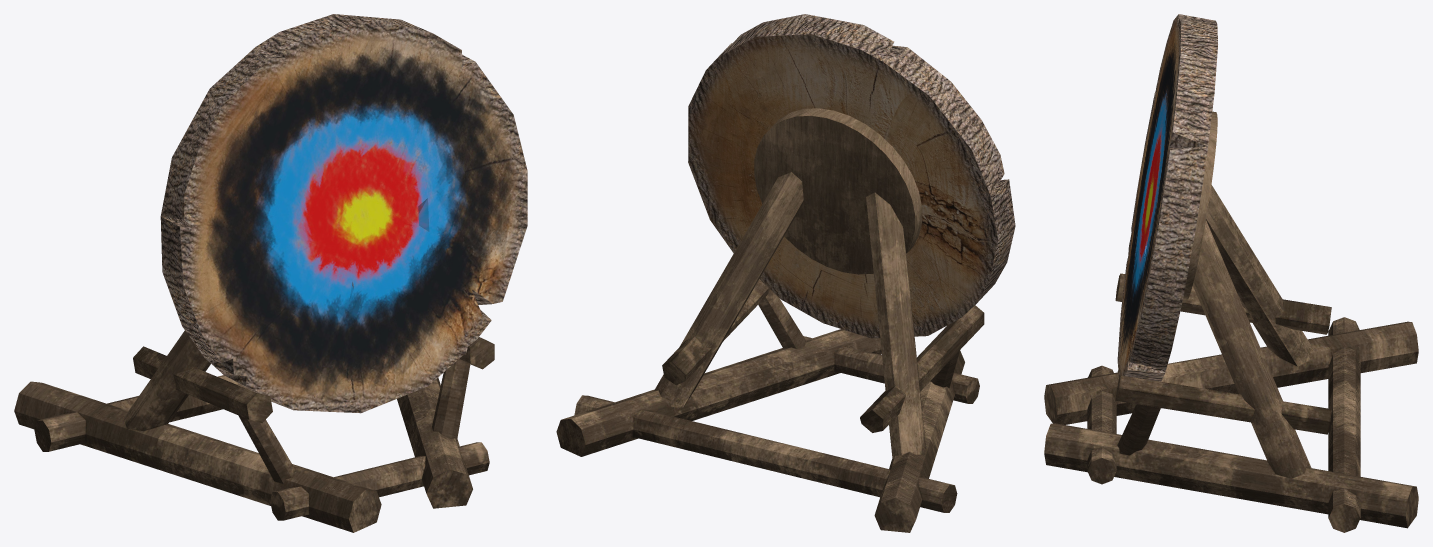
The model's file is medieval_archery_target.glb.
3 views of the same model, side by side, from view 1: azimuth 30°, elevation 25°; view 2: azimuth 150°, elevation 25°; view 3: azimuth 270°, elevation 25° (orthographic). The views are drawn at different scales.
Visible parts, largest first — view 1: Object_2; view 2: Object_2; view 3: Object_2.
Part boxes in pixels (x1=…): Object_2: x1=14, y1=14, x2=527, y2=532; Object_2: x1=556, y1=14, x2=1015, y2=532; Object_2: x1=1044, y1=14, x2=1418, y2=532.
Bounding box in the file's own units: 2.37 × 2.41 × 2.01.
Materials: 1 (1 with a texture image).
